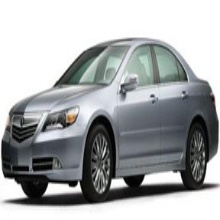no damage: (1, 38, 220, 200)
